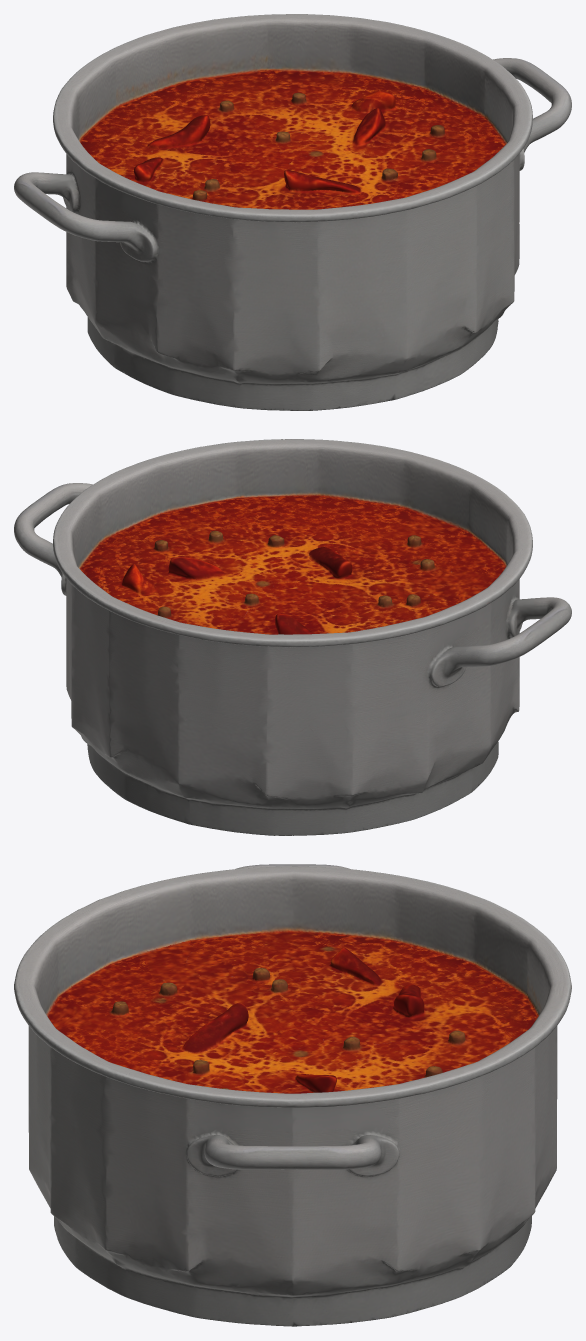
The model's file is Meshy_AI_마라탕_냄비_20261119_texture.fbx.
The picture shows the model from 3 angles, top to bottom: view 1: azimuth 30°, elevation 25°; view 2: azimuth 150°, elevation 25°; view 3: azimuth 270°, elevation 25°; orthographic projection. The views are drawn at different scales.
Parts seen in each view (by area): view 1: Mesh_0; view 2: Mesh_0; view 3: Mesh_0.
Part boxes in pixels (x1=…): Mesh_0: x1=14, y1=14, x2=571, y2=410; Mesh_0: x1=14, y1=439, x2=571, y2=835; Mesh_0: x1=14, y1=864, x2=571, y2=1326.
Size of the model in its own units: 190 by 73.87 by 154.
1 material, 1 textured.
